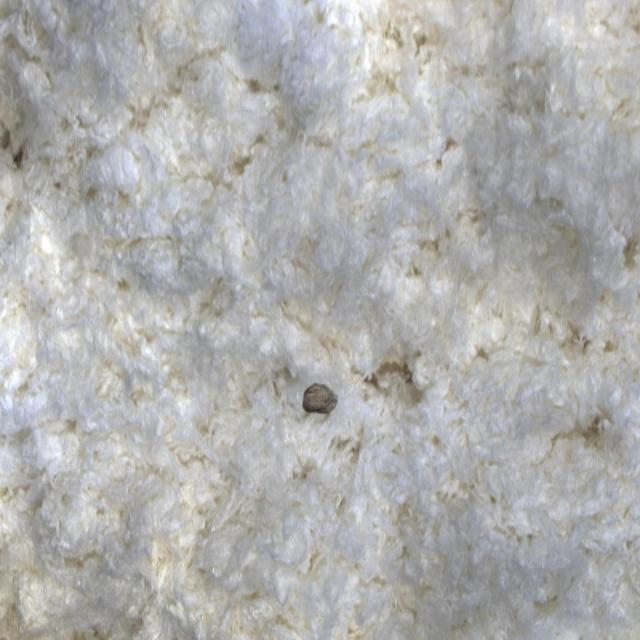dust: (284, 332, 366, 448)
